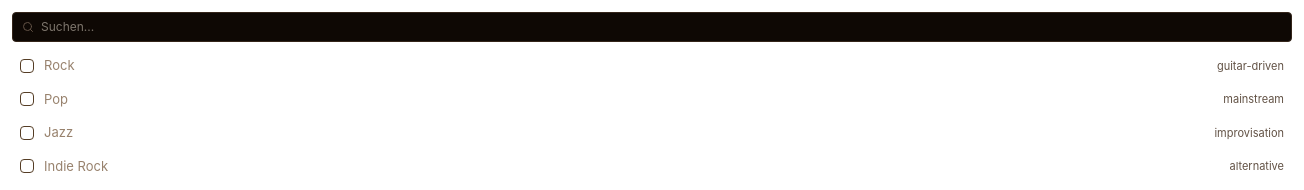
CheckList — Suche › filtert auch auf hint
The width and height of the screenshot is (1304, 190).
Type "improvisation" into the field with placeholder "Suchen...". click: (652, 27)
box: [12,12,1292,42]
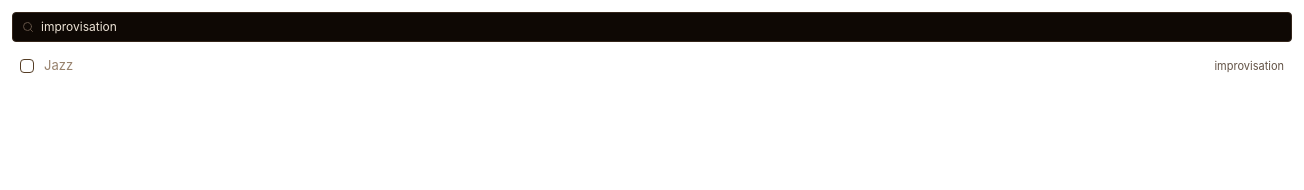
Check: the text "Jazz" is shown, box [44,57,73,73]
Check: the button "Rock" is gone
